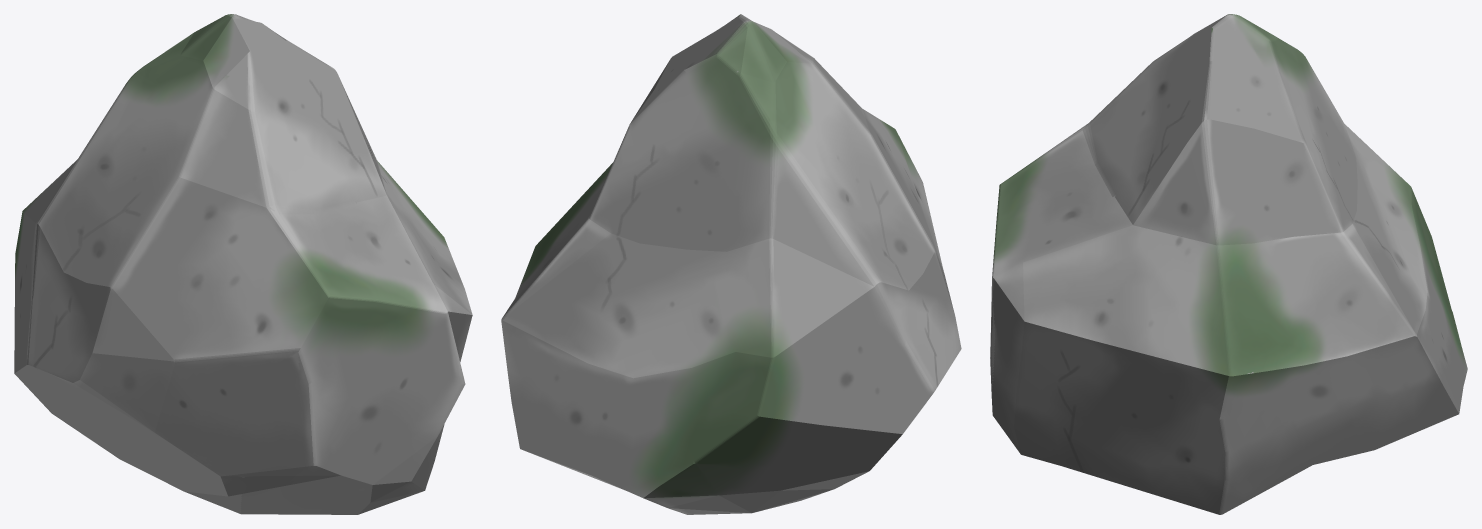
Rendered from Rocher 8.fbx.
The picture shows the model from 3 angles, left to right: view 1: azimuth 30°, elevation 25°; view 2: azimuth 150°, elevation 25°; view 3: azimuth 270°, elevation 25°; orthographic projection. The views are drawn at different scales.
Parts seen in each view (by area): view 1: Cube; view 2: Cube; view 3: Cube.
Boxes of the visible parts, <box> form: Cube: <box>14,14,472,514</box>; Cube: <box>501,14,961,514</box>; Cube: <box>990,14,1467,514</box>.
Bounding box in the file's own units: 220 × 240 × 233.
1 material, 1 textured.
